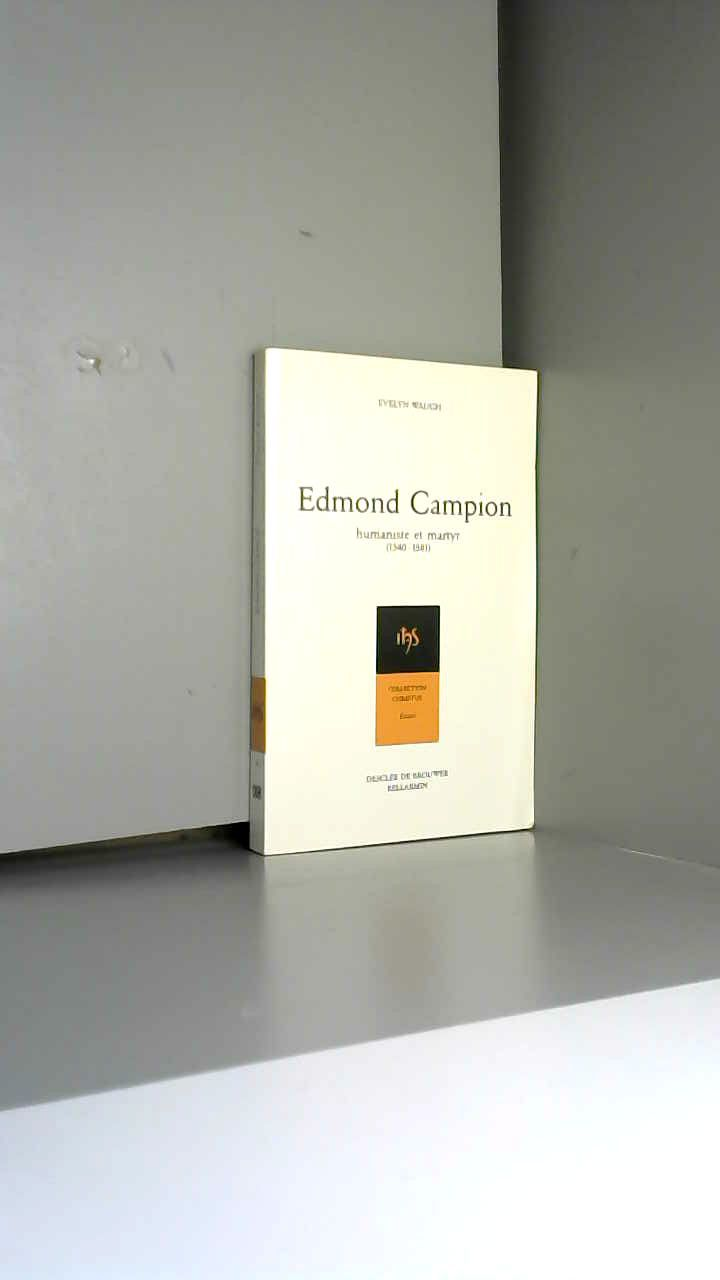book: (224, 307, 571, 908)
